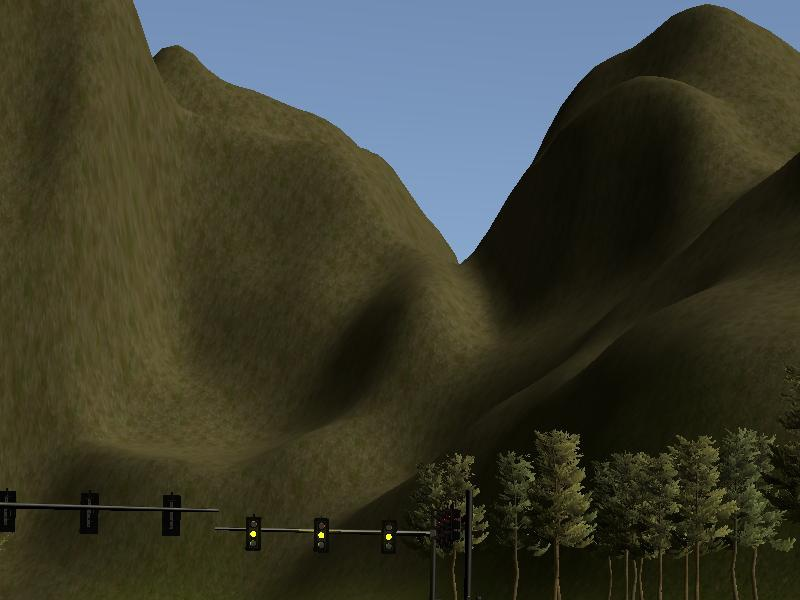Yellow: (314, 514, 333, 556), (380, 517, 399, 558), (244, 514, 264, 552)
